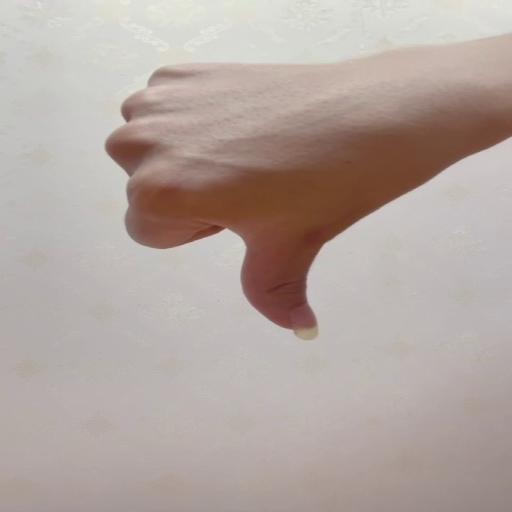thumbs_down: (105, 60, 409, 341)
